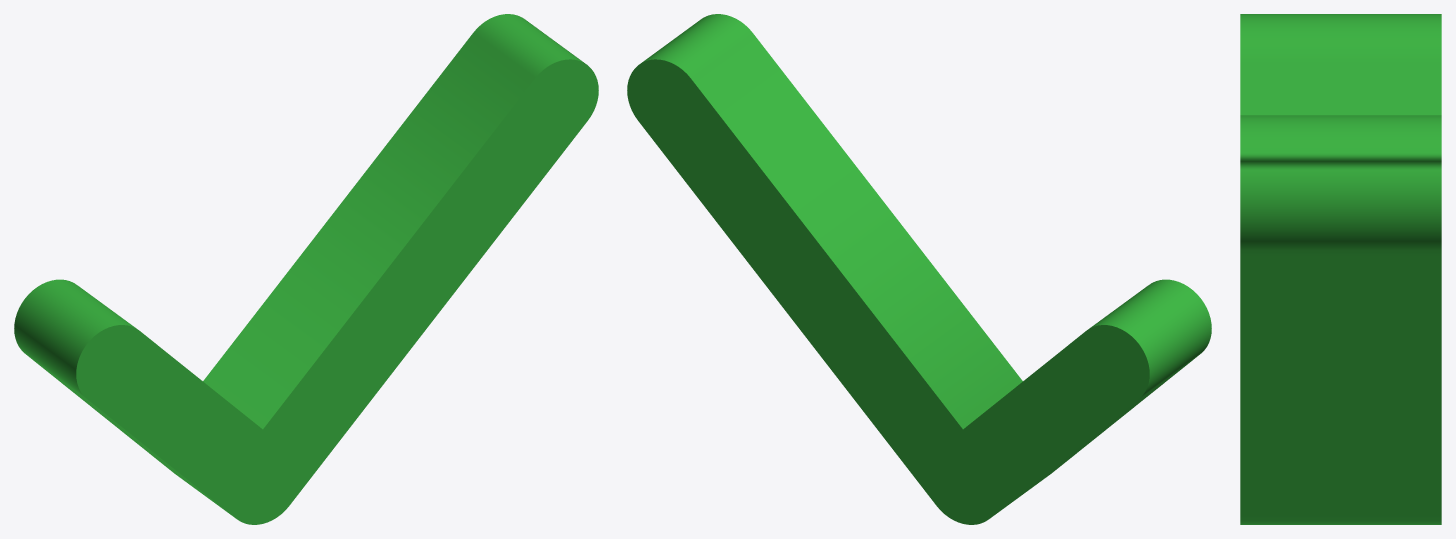
Rendered from check.fbx.
3 views of the same model, side by side, from view 1: azimuth 30°, elevation 25°; view 2: azimuth 150°, elevation 25°; view 3: azimuth 270°, elevation 25° (orthographic). The views are drawn at different scales.
Parts seen in each view (by area): view 1: Curve; view 2: Curve; view 3: Curve.
Boxes of the visible parts, x1=… form: Curve: x1=14, y1=14, x2=598, y2=524; Curve: x1=627, y1=14, x2=1211, y2=524; Curve: x1=1240, y1=14, x2=1441, y2=524.
Size of the model in its own units: 75.74 by 54.09 by 15.57.
